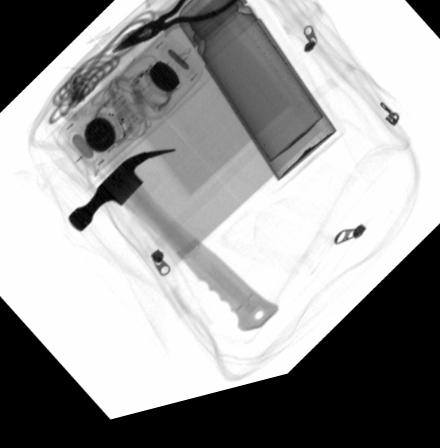Hammer: (67, 158, 277, 344)
Pliers: (109, 0, 244, 58)
